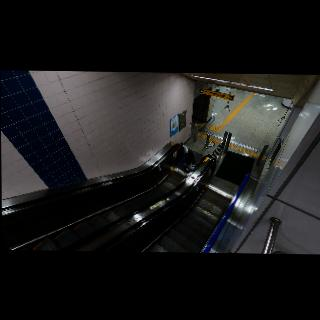anomaly: (177, 142, 196, 173)
